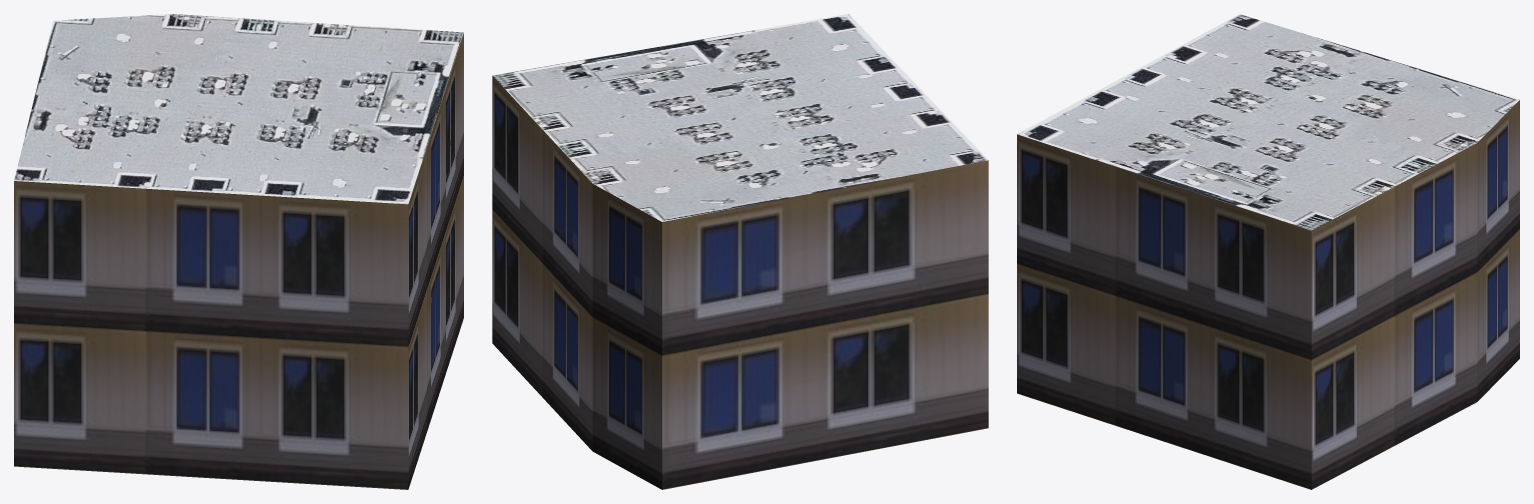
Rendered from ResTex__4716.fbx.
3 renders of one model, left to right at view 1: azimuth 30°, elevation 25°; view 2: azimuth 150°, elevation 25°; view 3: azimuth 270°, elevation 25°, orthographic. The views are drawn at different scales.
Parts seen in each view (by area): view 1: CityEngineMaterial_5_m, CityEngineMaterial_m; view 2: CityEngineMaterial_5_m, CityEngineMaterial_m; view 3: CityEngineMaterial_5_m, CityEngineMaterial_m.
Boxes of the visible parts, bbox=[...] form: CityEngineMaterial_5_m: bbox=[14, 33, 463, 489]; CityEngineMaterial_m: bbox=[14, 14, 463, 204]; CityEngineMaterial_5_m: bbox=[492, 76, 988, 489]; CityEngineMaterial_m: bbox=[492, 14, 987, 221]; CityEngineMaterial_5_m: bbox=[1017, 100, 1519, 489]; CityEngineMaterial_m: bbox=[1017, 14, 1519, 230].
Bounding box in the file's own units: 10.76 × 6 × 10.55.
Materials: 2 (2 with a texture image).
